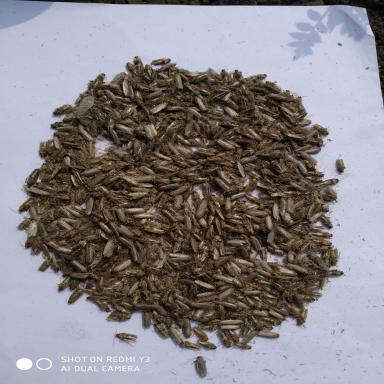pbw: (239, 326, 263, 347), (42, 216, 67, 236), (112, 328, 139, 346), (66, 283, 86, 307), (212, 174, 235, 194), (283, 261, 311, 277), (24, 182, 52, 198), (308, 252, 330, 272), (86, 171, 110, 189), (252, 315, 276, 333), (214, 328, 233, 350), (190, 255, 212, 274), (22, 167, 41, 189), (60, 172, 82, 191), (213, 286, 239, 302), (208, 253, 234, 269), (211, 299, 243, 312), (287, 292, 319, 305), (276, 262, 299, 280), (264, 240, 287, 258), (110, 258, 134, 275), (296, 150, 320, 167), (188, 325, 212, 342), (253, 181, 282, 195), (150, 322, 172, 340), (256, 296, 284, 310), (81, 241, 98, 264), (104, 82, 127, 99), (67, 221, 93, 236), (187, 70, 211, 86), (90, 297, 114, 313), (256, 256, 276, 275), (87, 249, 106, 269), (282, 299, 301, 319), (291, 307, 311, 326), (311, 195, 331, 214), (77, 125, 97, 144), (34, 256, 55, 274), (56, 272, 74, 293), (180, 340, 207, 354), (93, 101, 118, 116), (274, 225, 296, 242), (317, 212, 339, 229), (194, 198, 210, 221), (293, 238, 316, 254), (196, 338, 219, 354), (229, 296, 252, 312), (191, 278, 219, 291), (315, 176, 343, 189), (308, 235, 334, 249), (240, 212, 266, 226), (162, 103, 188, 117), (111, 207, 130, 226), (24, 217, 42, 237), (158, 272, 178, 290), (303, 186, 323, 204), (240, 207, 270, 219), (214, 138, 238, 153), (196, 308, 220, 323), (68, 258, 90, 274), (233, 146, 260, 159), (137, 164, 162, 178), (170, 292, 195, 306), (37, 197, 56, 215), (143, 274, 160, 294), (115, 223, 135, 240), (54, 216, 74, 233), (123, 205, 149, 218), (228, 255, 254, 268), (235, 201, 261, 214), (52, 104, 76, 118), (243, 166, 267, 180), (100, 164, 124, 178), (58, 214, 82, 228), (241, 191, 265, 205), (118, 172, 139, 188), (21, 234, 42, 250), (232, 126, 256, 140), (130, 172, 158, 184), (334, 156, 350, 177), (278, 206, 294, 227), (78, 166, 106, 178), (210, 272, 235, 285), (108, 71, 126, 89), (100, 85, 118, 103), (105, 312, 132, 324), (118, 103, 136, 121), (257, 132, 275, 150), (169, 194, 187, 212), (45, 164, 63, 182), (90, 72, 108, 90), (123, 61, 142, 78), (225, 258, 244, 275), (112, 122, 135, 136), (131, 53, 145, 76), (131, 196, 154, 210), (215, 212, 247, 222), (204, 66, 224, 82), (61, 108, 81, 124), (149, 253, 169, 269), (134, 246, 150, 266), (172, 298, 192, 314), (107, 127, 123, 147), (102, 238, 118, 258), (221, 104, 241, 120), (233, 159, 249, 179), (193, 93, 209, 113), (305, 208, 325, 224), (145, 262, 161, 282), (145, 77, 165, 93), (242, 218, 258, 238), (283, 160, 303, 176), (120, 77, 135, 98), (186, 234, 201, 255), (40, 234, 61, 249), (222, 273, 243, 288), (142, 96, 166, 109), (126, 240, 139, 264), (126, 190, 152, 202), (167, 254, 195, 265), (150, 163, 178, 174), (125, 279, 142, 297), (104, 220, 122, 237), (291, 196, 309, 213), (225, 326, 242, 344), (190, 305, 207, 323), (154, 302, 172, 319), (34, 162, 51, 180), (216, 168, 233, 186), (98, 183, 116, 200), (66, 272, 83, 290), (115, 234, 134, 250), (27, 240, 43, 259), (249, 234, 265, 253), (238, 320, 254, 339), (244, 126, 263, 142), (94, 220, 113, 236), (199, 180, 214, 200), (157, 208, 177, 223), (290, 110, 310, 125), (285, 182, 310, 194), (81, 140, 96, 160), (197, 164, 222, 176), (104, 93, 134, 103), (322, 268, 347, 280), (84, 294, 114, 304), (258, 283, 281, 296), (226, 77, 249, 90), (251, 267, 274, 280), (218, 127, 241, 140), (263, 92, 290, 103), (228, 225, 255, 236), (263, 78, 284, 92), (184, 106, 205, 120), (320, 250, 334, 271), (42, 152, 56, 173), (258, 244, 272, 265), (211, 215, 225, 236), (267, 308, 288, 322), (327, 246, 341, 267), (71, 168, 85, 189), (255, 109, 276, 123), (96, 194, 110, 215), (274, 187, 303, 197), (131, 302, 160, 312), (297, 224, 326, 234), (15, 214, 32, 231), (323, 185, 340, 202), (151, 189, 167, 207), (230, 340, 254, 352), (263, 228, 279, 246), (60, 154, 76, 172), (110, 302, 134, 314), (160, 256, 176, 274), (58, 234, 82, 246), (297, 282, 321, 294), (168, 183, 192, 195), (65, 135, 83, 151), (276, 242, 302, 253), (191, 85, 213, 98), (269, 200, 282, 222), (236, 153, 262, 164), (67, 244, 86, 259), (269, 158, 288, 173), (255, 330, 283, 340), (272, 120, 292, 134), (276, 104, 296, 118), (176, 169, 204, 179), (209, 148, 237, 158), (197, 244, 211, 264), (155, 62, 178, 74), (261, 315, 284, 327), (196, 288, 219, 300), (106, 146, 129, 158), (287, 226, 312, 237), (275, 195, 288, 216), (277, 113, 293, 130), (98, 206, 115, 222), (237, 233, 254, 249), (60, 262, 77, 278), (171, 310, 186, 328), (317, 274, 332, 292), (189, 190, 204, 208), (70, 91, 88, 106), (216, 67, 231, 85), (216, 317, 246, 326), (170, 236, 185, 254), (306, 244, 336, 253), (225, 98, 244, 112), (296, 159, 310, 178), (186, 228, 205, 242), (220, 195, 234, 214), (279, 88, 293, 107), (35, 219, 49, 238), (173, 131, 192, 145), (57, 206, 76, 220), (130, 80, 152, 92), (311, 229, 335, 240), (227, 190, 249, 202), (162, 308, 174, 330), (142, 88, 164, 100), (172, 158, 194, 170), (270, 304, 292, 316), (150, 149, 172, 161), (183, 161, 205, 173), (140, 295, 164, 306), (254, 94, 276, 106), (261, 107, 283, 119), (244, 72, 268, 83), (220, 216, 246, 226), (212, 88, 232, 101), (84, 78, 97, 98), (285, 196, 298, 216), (70, 203, 90, 216), (283, 153, 303, 166), (300, 290, 326, 300), (195, 144, 221, 154), (247, 308, 273, 318), (176, 93, 202, 103), (263, 214, 276, 234), (94, 127, 114, 140), (172, 143, 192, 156), (102, 174, 122, 187), (157, 182, 183, 192), (136, 234, 162, 244), (140, 224, 166, 234), (158, 288, 173, 305), (243, 295, 260, 310), (84, 194, 95, 217), (85, 120, 99, 138), (312, 122, 330, 136), (50, 253, 62, 274), (144, 122, 156, 143), (110, 269, 138, 278), (96, 285, 124, 294), (182, 318, 194, 339), (202, 112, 227, 122), (148, 57, 173, 67), (272, 275, 303, 283), (247, 170, 260, 189), (157, 75, 176, 88), (302, 128, 321, 141), (188, 301, 215, 310), (194, 322, 221, 331), (262, 130, 284, 141), (240, 161, 262, 172), (172, 71, 184, 91), (74, 186, 86, 206), (132, 87, 144, 107), (154, 244, 169, 260), (301, 174, 325, 184), (180, 200, 192, 220), (52, 244, 76, 254), (95, 227, 111, 242), (80, 232, 104, 242), (232, 68, 247, 84), (220, 322, 244, 332), (204, 221, 216, 241), (295, 136, 319, 146), (37, 140, 49, 160), (114, 198, 138, 208), (54, 148, 68, 165), (217, 121, 243, 130), (227, 137, 253, 146), (94, 275, 107, 293), (234, 106, 260, 115), (47, 177, 60, 195), (132, 211, 155, 221), (66, 270, 89, 280), (265, 261, 288, 271), (82, 287, 105, 297), (214, 238, 226, 257), (132, 216, 151, 228), (182, 214, 194, 233), (45, 192, 70, 201), (284, 248, 298, 264), (156, 236, 170, 252), (166, 140, 180, 156), (209, 194, 223, 210), (278, 288, 292, 304), (244, 312, 260, 326), (38, 242, 52, 258), (193, 217, 210, 230), (286, 136, 299, 153), (212, 283, 232, 294), (241, 271, 261, 282), (67, 187, 78, 207), (142, 309, 153, 329), (143, 63, 154, 83), (161, 224, 179, 236), (216, 304, 228, 322), (296, 217, 320, 226), (245, 89, 257, 107), (205, 136, 223, 148), (210, 245, 222, 263), (232, 144, 244, 162), (80, 270, 101, 280), (47, 120, 68, 130), (293, 176, 312, 187), (186, 136, 205, 147), (255, 151, 281, 159), (211, 126, 227, 139), (192, 295, 218, 303), (127, 186, 153, 194), (305, 170, 328, 179), (240, 82, 252, 99), (50, 134, 62, 151), (26, 204, 38, 221), (252, 277, 274, 286), (217, 192, 228, 210), (184, 120, 195, 138), (136, 182, 158, 191), (313, 130, 324, 148), (222, 239, 250, 246), (182, 176, 210, 183), (236, 244, 249, 259), (182, 185, 195, 200), (203, 156, 227, 164), (292, 251, 304, 267), (100, 154, 124, 162), (246, 85, 270, 93), (230, 115, 254, 123), (53, 125, 77, 133), (192, 122, 204, 138), (186, 284, 198, 300), (248, 247, 260, 263), (109, 188, 128, 198), (284, 132, 305, 141), (205, 211, 216, 228), (163, 121, 177, 134), (123, 139, 137, 152), (104, 116, 117, 130), (195, 238, 208, 252), (260, 291, 278, 301), (157, 131, 169, 146), (192, 149, 214, 157), (49, 131, 74, 138), (307, 201, 316, 220), (267, 144, 288, 152), (131, 139, 140, 157), (294, 144, 314, 152), (182, 158, 202, 166), (292, 96, 305, 108), (207, 86, 233, 92), (212, 160, 234, 167), (297, 118, 314, 127), (117, 135, 136, 143), (169, 176, 194, 182), (198, 130, 208, 145), (242, 288, 262, 295)
